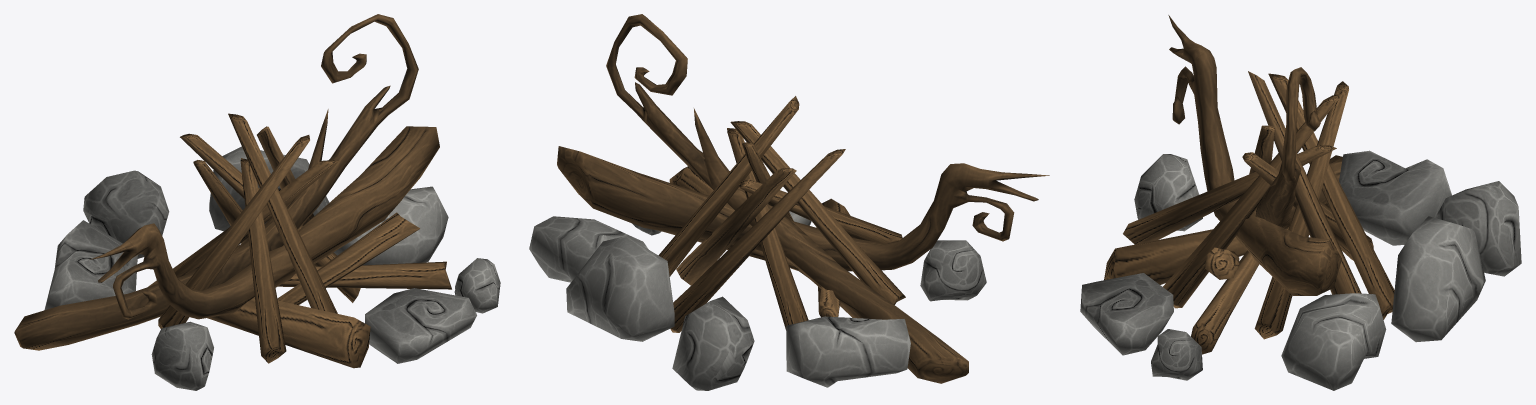
File: firewood.fbx
3 renders of one model, left to right at view 1: azimuth 30°, elevation 25°; view 2: azimuth 150°, elevation 25°; view 3: azimuth 270°, elevation 25°, orthographic. The views are drawn at different scales.
Parts seen in each view (by area): view 1: fnty_prop_firepits_v3_mesh.2; view 2: fnty_prop_firepits_v3_mesh.2; view 3: fnty_prop_firepits_v3_mesh.2.
Part boxes in pixels (x1,y1,x2,y2): fnty_prop_firepits_v3_mesh.2: (14, 14, 500, 390); fnty_prop_firepits_v3_mesh.2: (529, 14, 1049, 390); fnty_prop_firepits_v3_mesh.2: (1080, 15, 1521, 390).
Size of the model in its own units: 26.95 by 16.32 by 21.95.
1 material, 1 textured.
